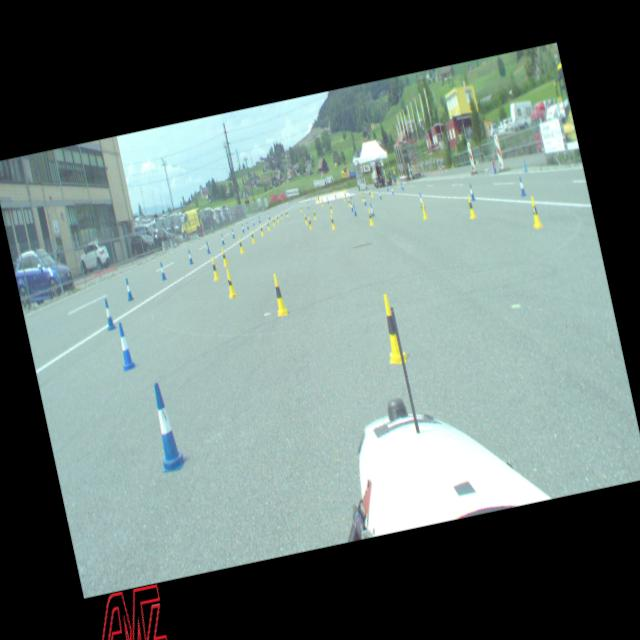blue_cone: (144, 380, 188, 473), (113, 321, 136, 372), (102, 298, 115, 329), (124, 278, 134, 300), (517, 176, 526, 196), (158, 260, 167, 280), (468, 183, 475, 200), (187, 248, 193, 264), (418, 192, 424, 208), (204, 241, 210, 254), (368, 203, 374, 216), (220, 233, 225, 244), (352, 204, 357, 215), (349, 201, 354, 212), (362, 195, 367, 205), (240, 222, 244, 232), (231, 228, 235, 238), (378, 190, 382, 200), (391, 186, 394, 193)
unknown_cone: (520, 158, 528, 172), (490, 160, 496, 173)
yellow_cone: (376, 292, 408, 365), (269, 272, 288, 316), (222, 268, 238, 298), (528, 195, 542, 227), (209, 256, 220, 280), (465, 194, 476, 218), (419, 200, 427, 218), (366, 208, 374, 225), (220, 247, 227, 265), (238, 238, 244, 252), (329, 214, 335, 228), (259, 224, 264, 236), (303, 213, 308, 224), (250, 230, 254, 242), (308, 216, 312, 228), (312, 209, 316, 219), (266, 219, 270, 229), (359, 193, 364, 201), (272, 216, 276, 225), (329, 204, 333, 212), (276, 215, 280, 222), (299, 204, 302, 212), (280, 212, 283, 218), (370, 189, 372, 197)
